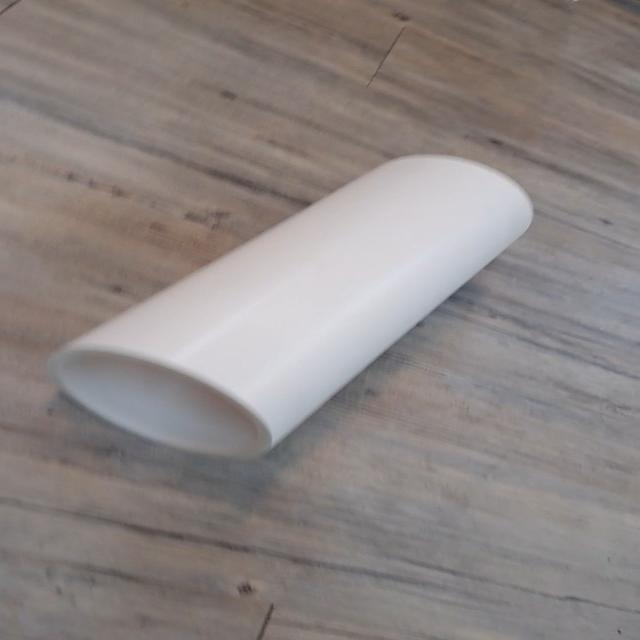CORAL: (42, 145, 551, 465)
